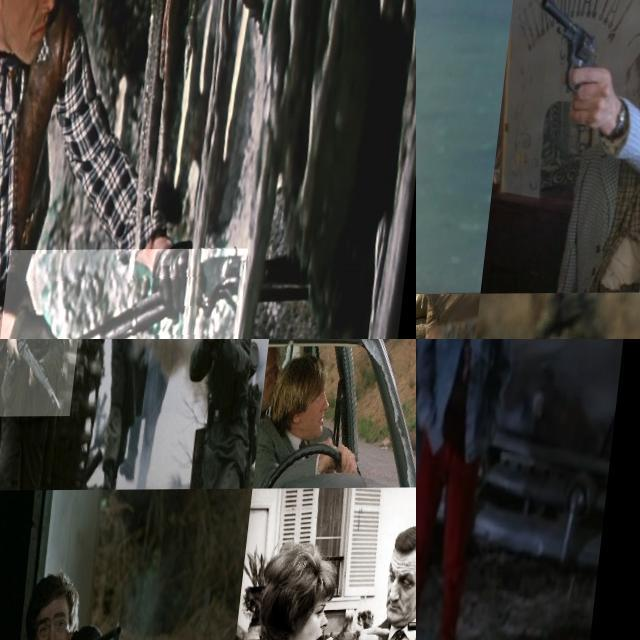gun-knife-thesis - v11 Yolov5 augmented: (8, 249, 259, 339), (522, 0, 613, 117), (0, 339, 85, 416), (416, 339, 482, 438), (416, 95, 438, 187), (54, 622, 135, 640)
